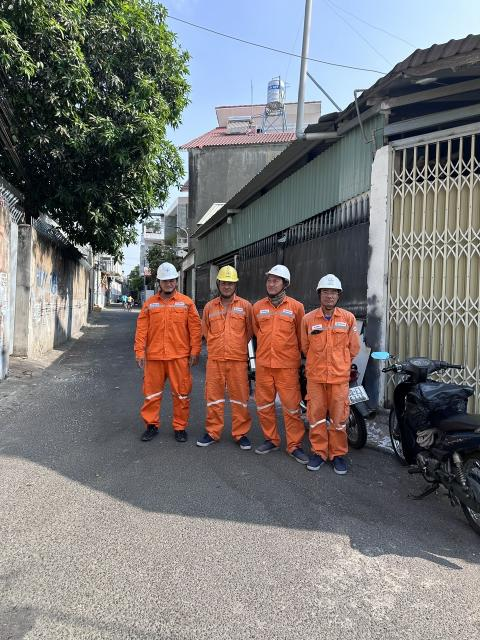helmet: (152, 256, 186, 283), (316, 268, 342, 297), (210, 262, 240, 283), (266, 263, 291, 286)
shoes: (326, 449, 349, 481), (193, 425, 219, 451), (286, 443, 310, 469), (253, 435, 277, 458), (303, 448, 327, 471), (140, 418, 161, 442), (229, 436, 254, 456), (171, 426, 192, 448)
